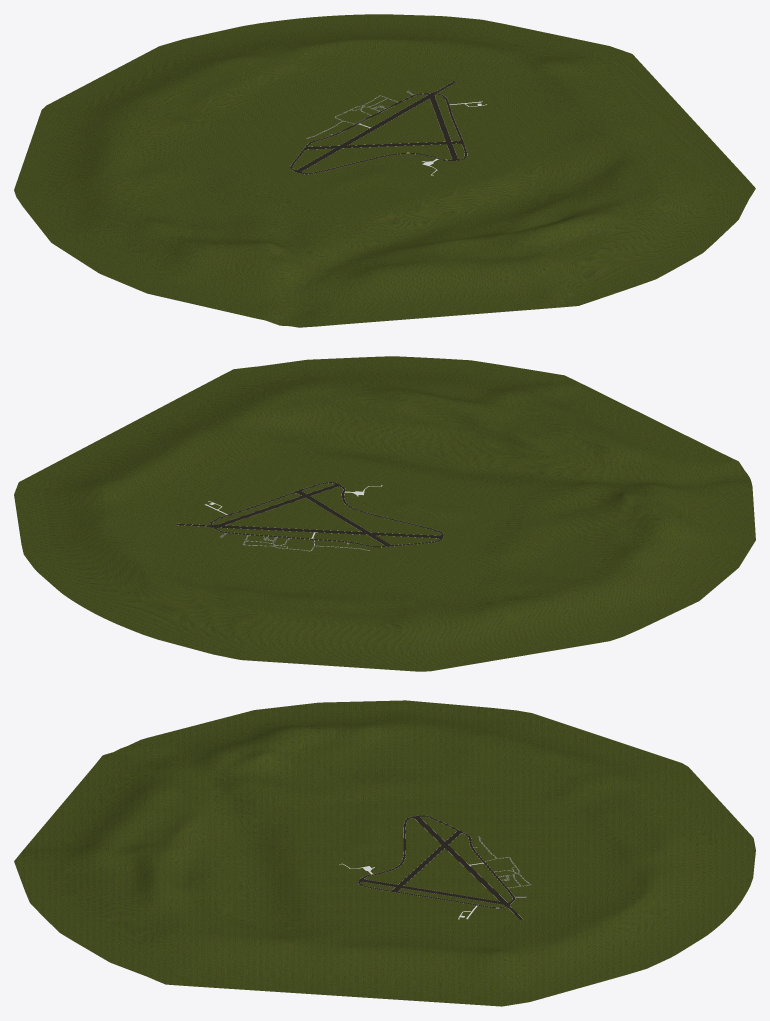
File: topgear.FBX
The picture shows the model from 3 angles, top to bottom: view 1: azimuth 30°, elevation 25°; view 2: azimuth 150°, elevation 25°; view 3: azimuth 270°, elevation 25°; orthographic projection.
Parts seen in each view (by area): view 1: outer_ground, center_triangle001, ground02, runways, northern_roads_ground, ground03; view 2: outer_ground, center_triangle001, ground02, runways, northern_roads_ground, ground03; view 3: outer_ground, center_triangle001, ground02, runways, northern_roads_ground, ground03.
Part boxes in pixels (<box>): outer_ground: <box>14,14,755,327</box>; center_triangle001: <box>292,78,534,183</box>; ground02: <box>282,157,445,205</box>; runways: <box>295,81,461,172</box>; northern_roads_ground: <box>298,91,411,140</box>; ground03: <box>266,135,311,178</box>; outer_ground: <box>14,356,755,671</box>; center_triangle001: <box>176,462,441,546</box>; ground02: <box>371,476,498,539</box>; runways: <box>176,483,441,545</box>; northern_roads_ground: <box>222,533,371,555</box>; ground03: <box>366,539,463,555</box>; outer_ground: <box>14,700,755,1006</box>; center_triangle001: <box>317,816,536,919</box>; ground02: <box>317,807,418,864</box>; runways: <box>360,816,522,919</box>; northern_roads_ground: <box>471,835,531,896</box>; ground03: <box>410,807,490,837</box>.
Bounding box in the file's own units: 5715 × 5854 × 172.
Materials: 3 (3 with a texture image).
